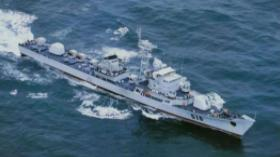warship: (17, 26, 258, 135)
